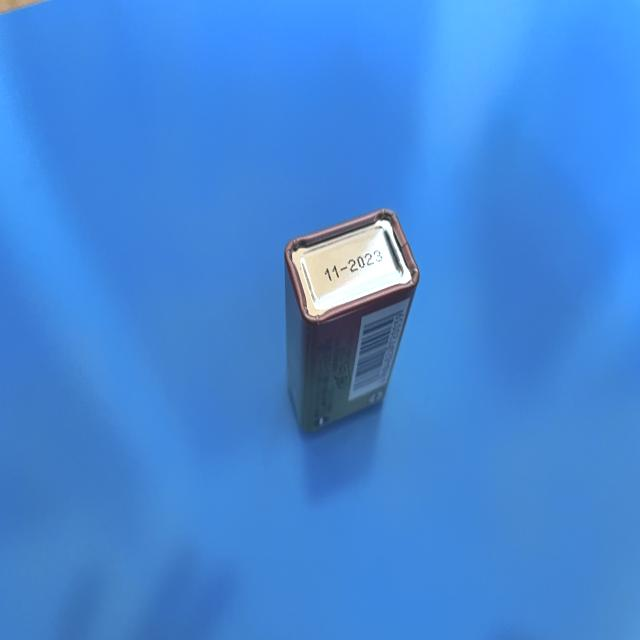9V: (286, 208, 420, 433)
